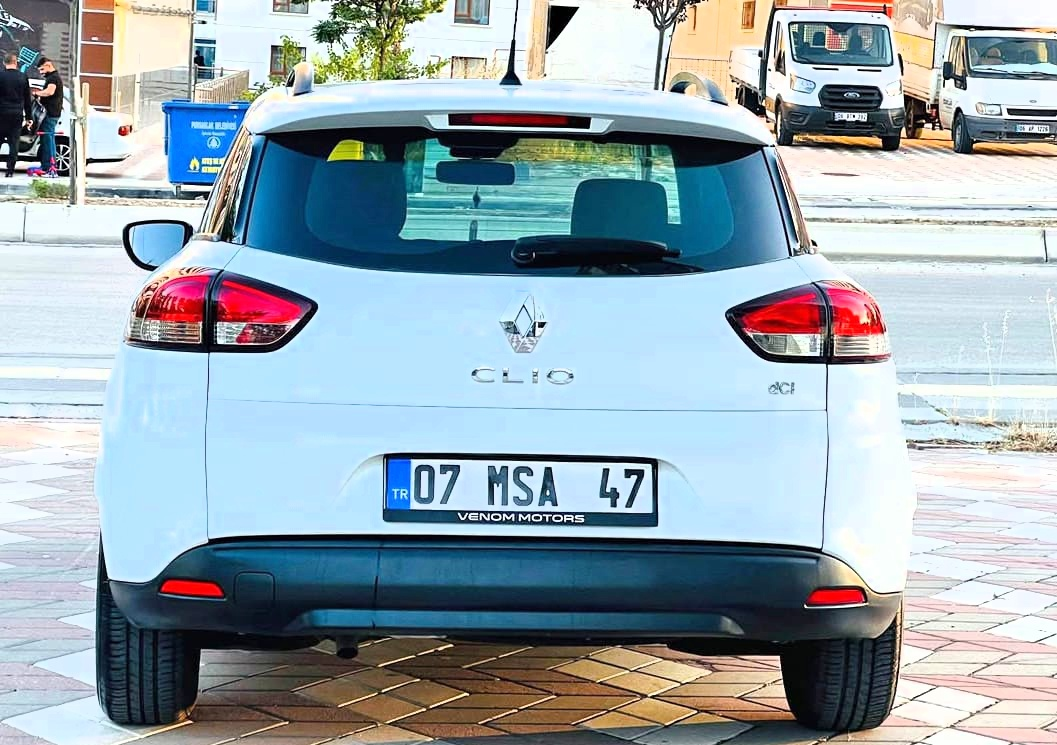plaka: (411, 439, 667, 515)
